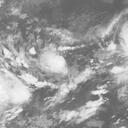cyclone: (38, 52, 70, 78)
